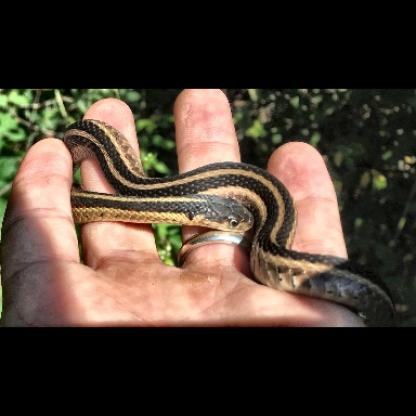Snake: (66, 119, 391, 318)
